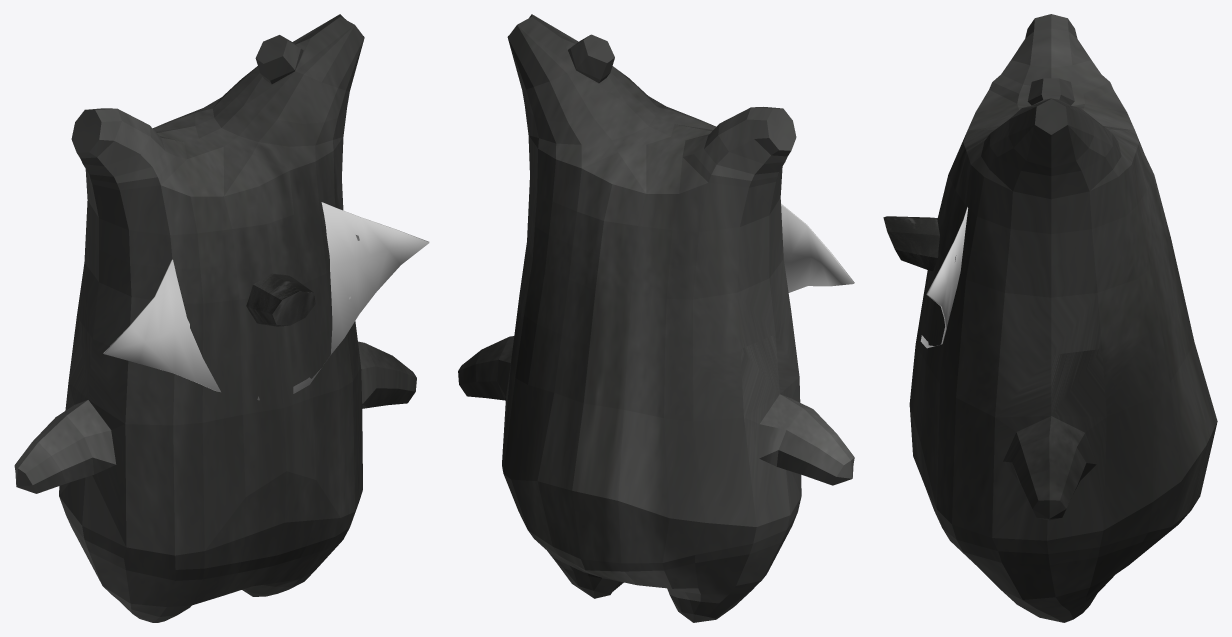
The model's file is frame_0033.obj.
The picture shows the model from 3 angles, left to right: view 1: azimuth 30°, elevation 25°; view 2: azimuth 150°, elevation 25°; view 3: azimuth 270°, elevation 25°; orthographic projection.
Parts seen in each view (by area): view 1: korok, leaf, nose; view 2: korok, leaf; view 3: korok, nose, leaf.
Boxes of the visible parts, x1,y1,x2,y2 form: korok: (14, 14, 416, 622); leaf: (103, 202, 429, 400); nose: (246, 273, 315, 326); korok: (458, 14, 854, 622); leaf: (781, 203, 854, 292); korok: (909, 14, 1217, 622); nose: (883, 216, 939, 271); leaf: (920, 207, 968, 348).
Size of the model in its own units: 1.72 by 2.33 by 1.27.
